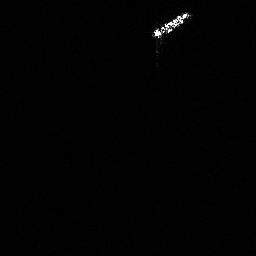ship: (146, 8, 194, 42)
